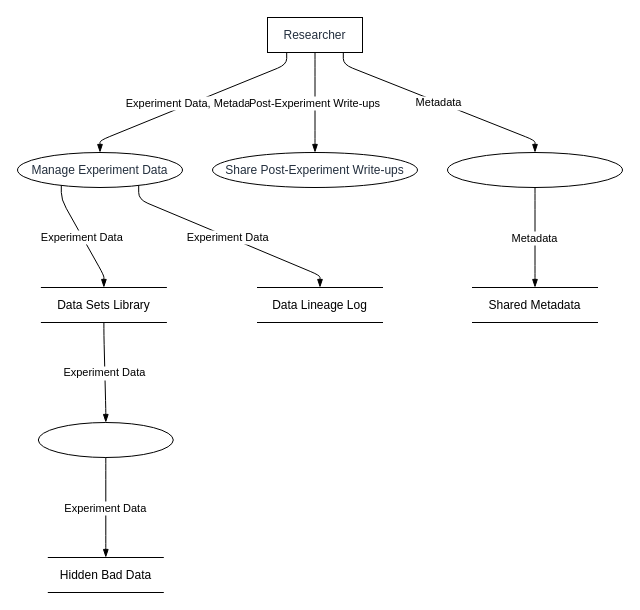
This 640x610 diagram has some shape labels left out. Here are the shapes that lost their labels. From the top down, the centre of each, then its label:
At [534,170]: "Provide Standard Metadata".
At [105,440]: "Classify Data Quality".
